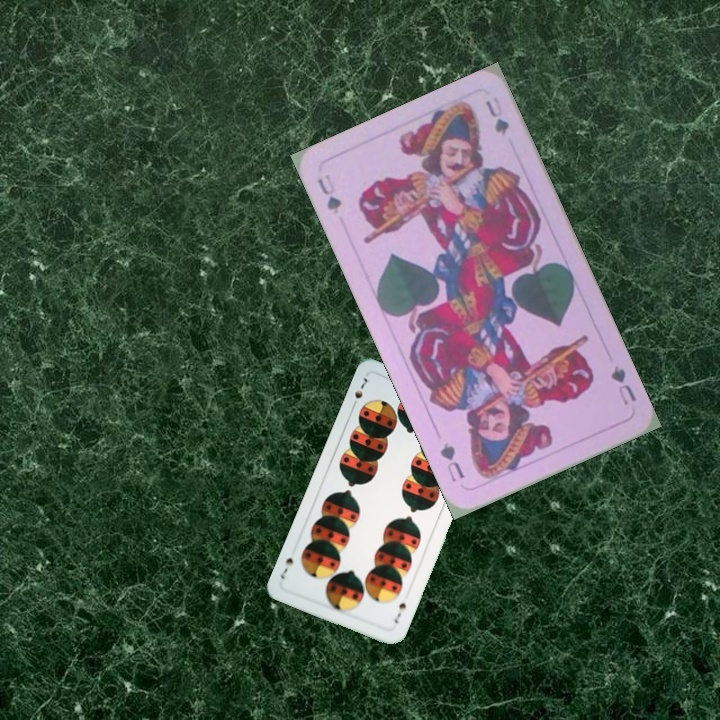GU: (607, 361, 639, 408), (313, 170, 344, 217)
S7: (348, 373, 370, 411), (390, 598, 408, 626)
